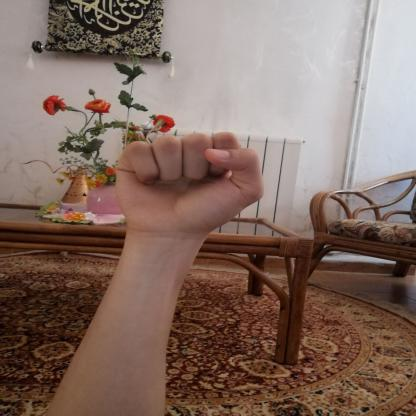SAD: (91, 115, 283, 250)
